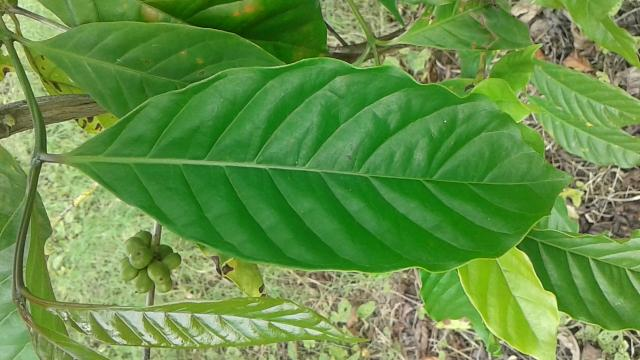healthy: (78, 66, 557, 273)
